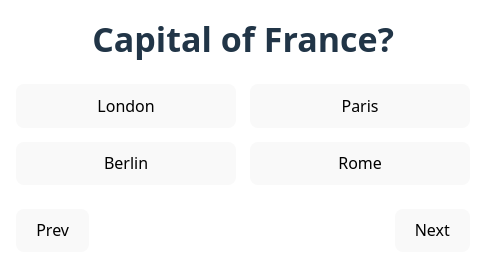
Test: GamePlay Component › Click Next goes to next question, Prev to prev question
Click the button "Next". click: (432, 230)
box: [394,209,470,252]
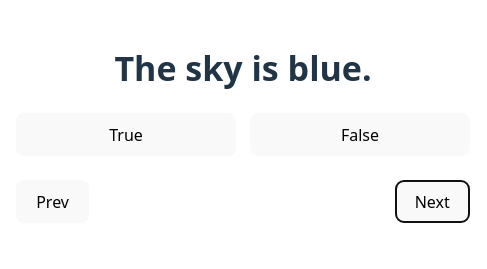
Expected: the heading "The sky is blue." is shown, [114,45,372,91]
Click the button "Prev". click: (53, 202)
box: [16,180,89,224]
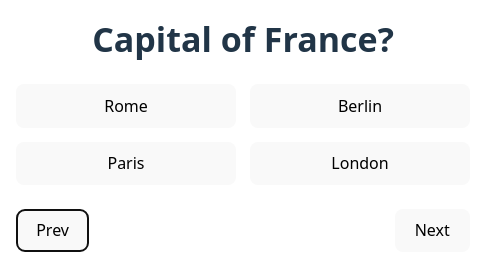
Expected: the heading "Capital of France?" is shown, [92,16,394,62]
